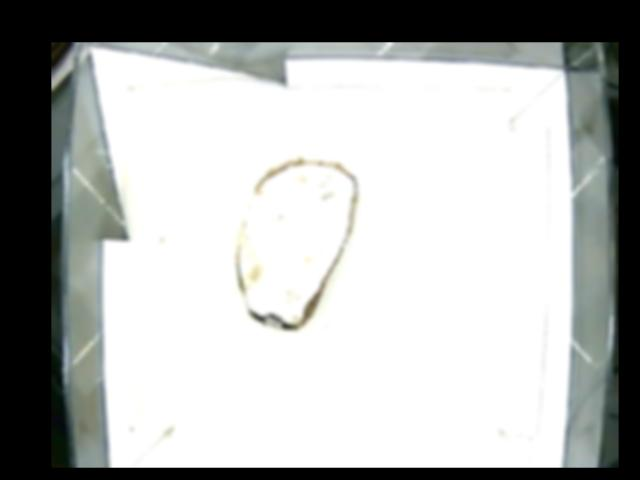Shell: (236, 157, 359, 333)
